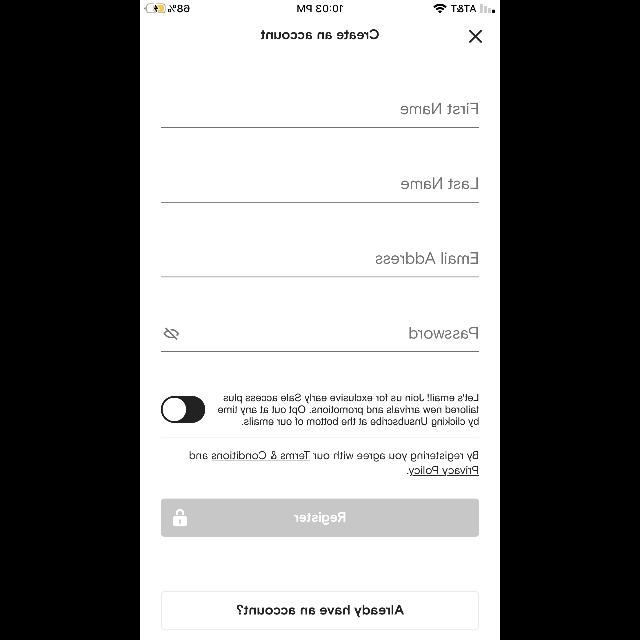icon: (468, 31, 482, 44), (164, 328, 178, 340)
input: (161, 252, 479, 278), (161, 328, 479, 352), (161, 178, 479, 202), (161, 104, 479, 128)
switch: (161, 396, 205, 424)
text: (218, 394, 480, 428), (190, 452, 478, 476), (375, 252, 477, 264), (261, 29, 379, 39), (400, 178, 478, 190), (400, 103, 478, 115), (409, 327, 477, 339)
textbutton: (161, 591, 479, 629), (161, 499, 479, 537)
uppertaskbar: (140, 0, 500, 14)
